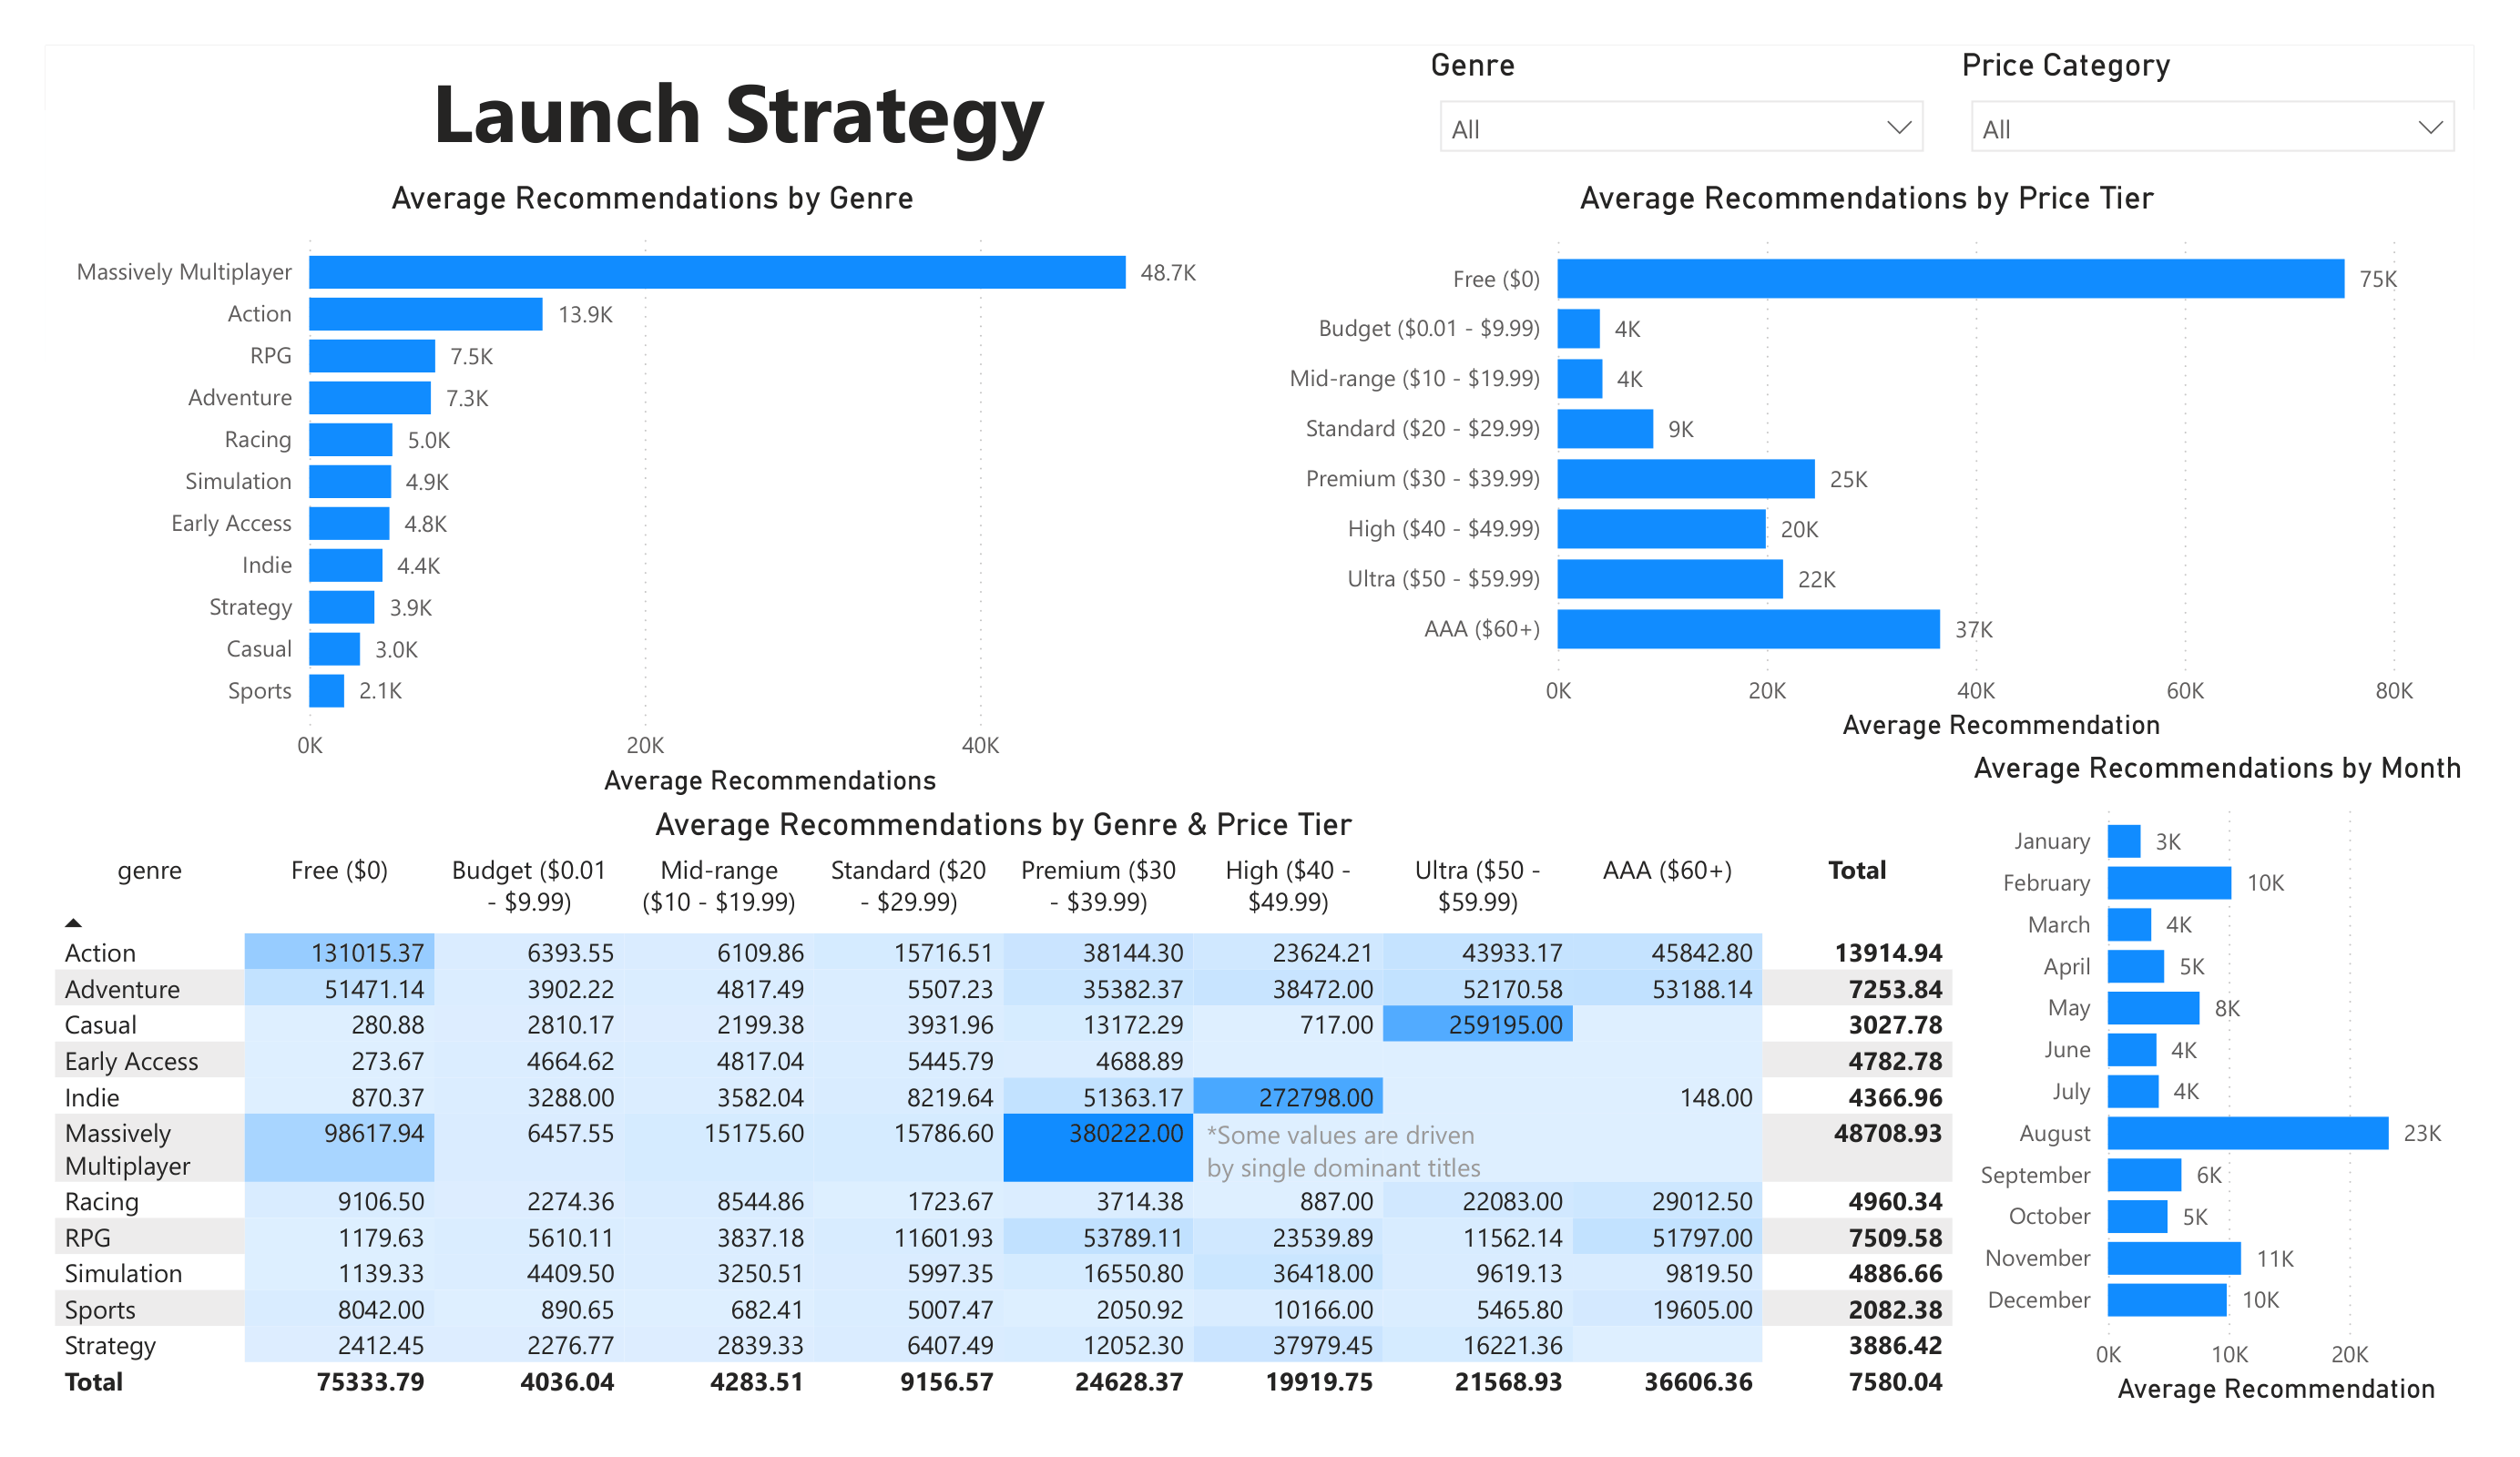

What the dashboard file says about the page in this screenshot:
{"tool":"powerbi","page":{"name":"Launch Strategy","canvas":[1280,720],"ordinal":1},"visuals":[{"type":"textbox","box":[0,0,730,70.1],"z":0},{"type":"barChart","title":"Average Recommendations by Genre","fields":{"Category":["public games_genre.genre"],"Y":["Avg(public games.recommendations)"]},"box":[0,70,640,329.7],"z":1000},{"type":"barChart","title":"Average Recommendations by Price Tier","fields":{"Category":["public games.price_category"],"Y":["Avg(public games.recommendations)"]},"box":[640,70,640,300.5],"z":2000},{"type":"barChart","title":"Average Recommendations by Month","fields":{"Category":["public games.release_date.Variation.Date Hierarchy.Month"],"Y":["Avg(public games.recommendations)"]},"box":[1009.6,370.6,270.4,350],"z":3000},{"type":"slicer","title":"Genre","fields":{"Values":["public games_genre.genre"]},"box":[724.6,0,275.3,70],"z":4000},{"type":"slicer","title":"Price Category","fields":{"Values":["public games.price_category"]},"box":[1004.7,0,275.3,70],"z":5000},{"type":"pivotTable","title":"Average Recommendations by Genre & Price Tier","fields":{"Columns":["public games.price_category"],"Values":["Avg(public games.recommendations)"],"Rows":["public games_genre.genre"]},"box":[0,399.8,1010,320],"z":6000},{"type":"textbox","box":[606.9,560.2,155.6,49.6],"z":7000}]}

Visuals, with their boxes on the page's 1280x720 design canvas (x1, y1, x2, y2). These are canvas units, not pixel positions in the 2520x1457 screenshot, which may show the page scaled, cropped or inside an application window:
textbox: bbox(0, 0, 730, 70)
"Average Recommendations by Genre" barChart: bbox(0, 70, 640, 400)
"Average Recommendations by Price Tier" barChart: bbox(640, 70, 1280, 370)
"Average Recommendations by Month" barChart: bbox(1010, 371, 1280, 721)
"Genre" slicer: bbox(725, 0, 1000, 70)
"Price Category" slicer: bbox(1005, 0, 1280, 70)
"Average Recommendations by Genre & Price Tier" pivotTable: bbox(0, 400, 1010, 720)
textbox: bbox(607, 560, 762, 610)
